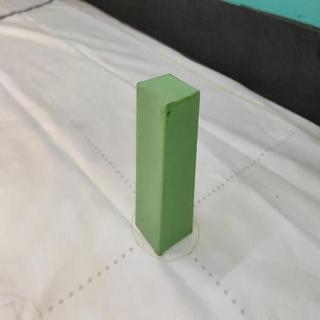greenbox: (136, 72, 201, 255)
